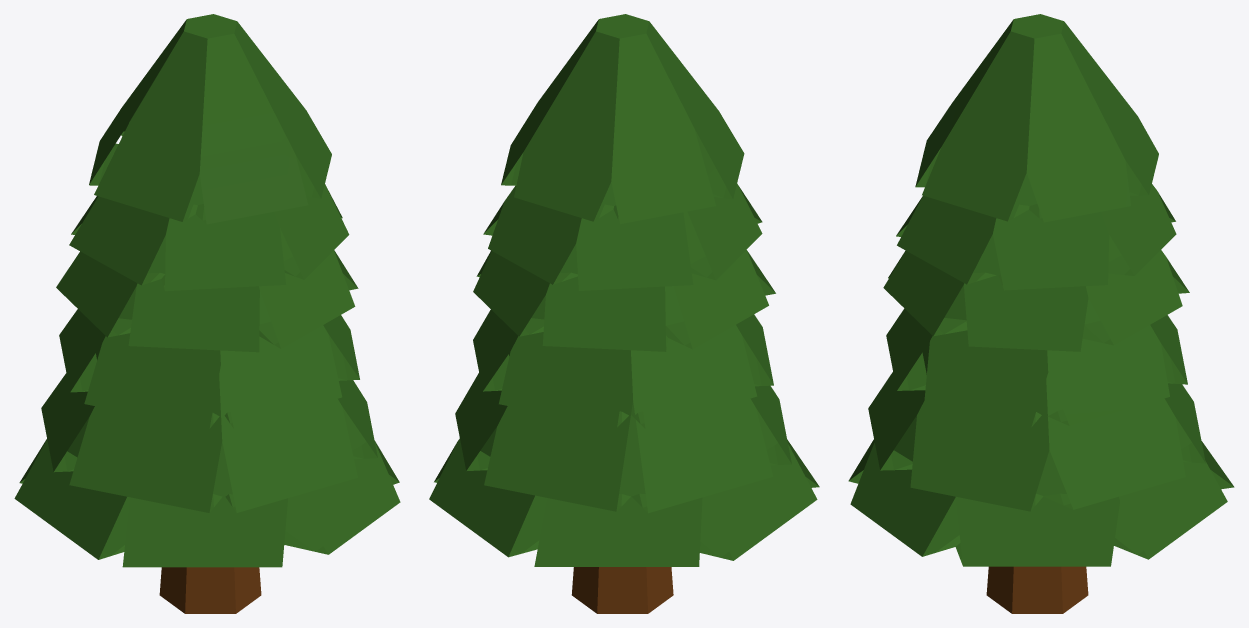
File: Tree_24.fbx
3 renders of one model, left to right at view 1: azimuth 30°, elevation 25°; view 2: azimuth 150°, elevation 25°; view 3: azimuth 270°, elevation 25°, orthographic.
Visible parts, largest first — view 1: Tree_24; view 2: Tree_24; view 3: Tree_24.
Part boxes in pixels (x1=…): Tree_24: x1=14, y1=14, x2=400, y2=613; Tree_24: x1=429, y1=14, x2=819, y2=613; Tree_24: x1=848, y1=14, x2=1234, y2=613.
Bounding box in the file's own units: 466 × 821 × 505.
